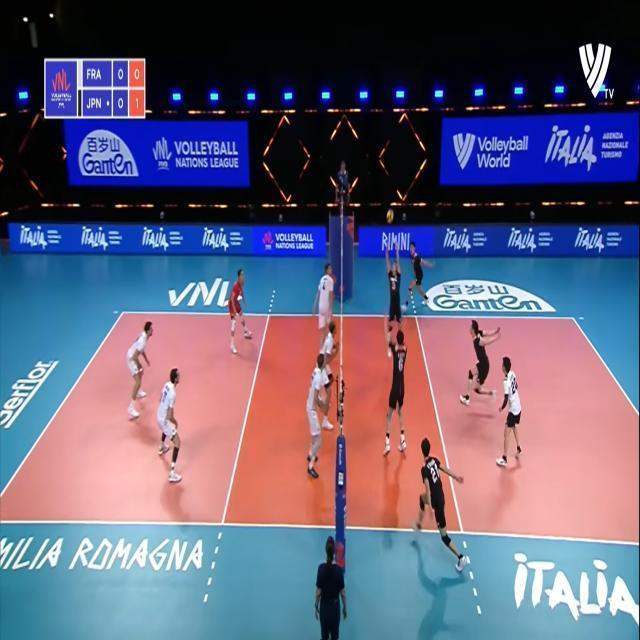volleyball: (386, 210, 394, 222)
